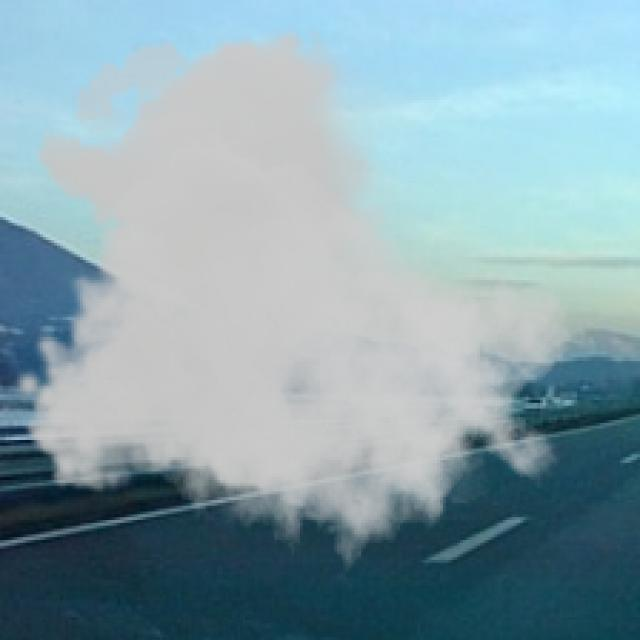Smoke: (12, 26, 574, 588)
